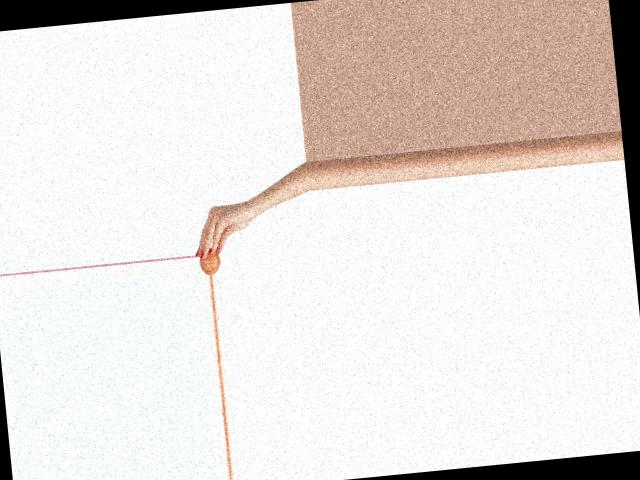egg: (198, 247, 221, 275)
